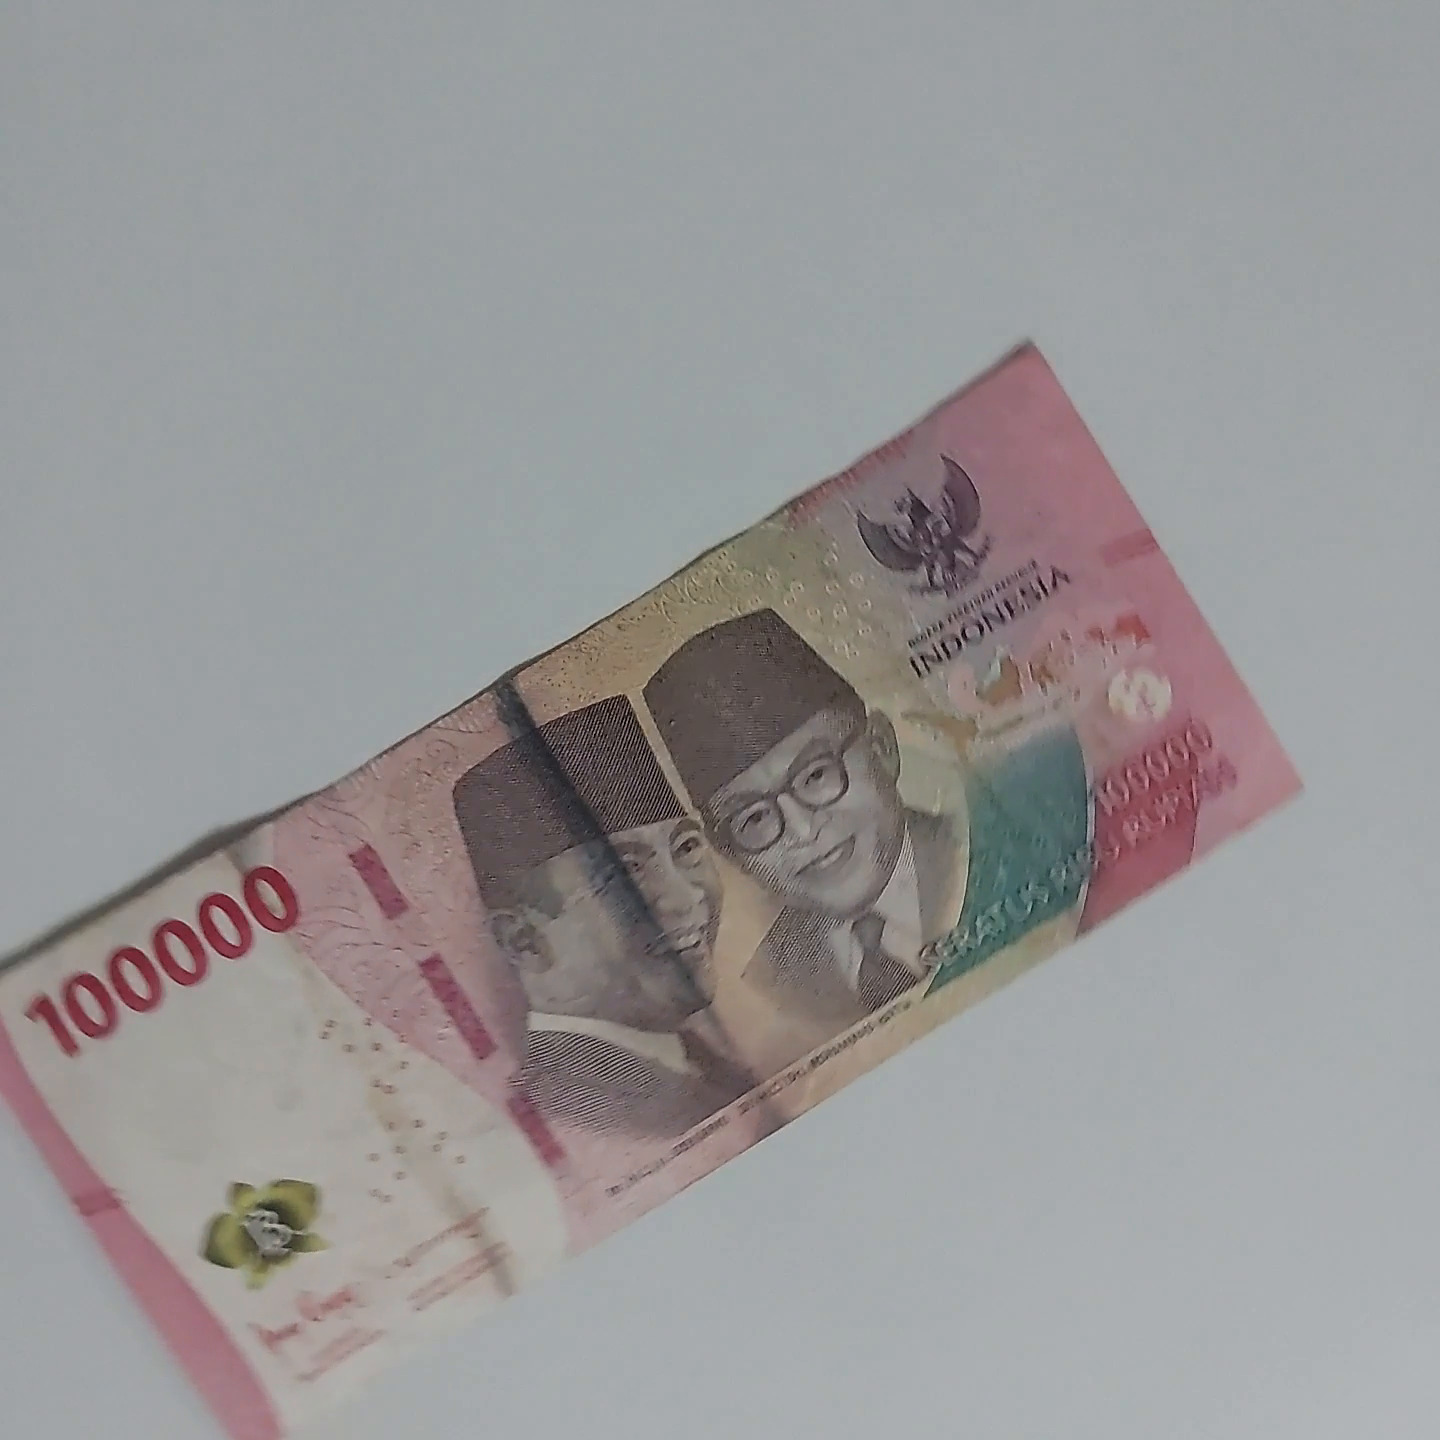100k: (1, 258, 1309, 1440)
